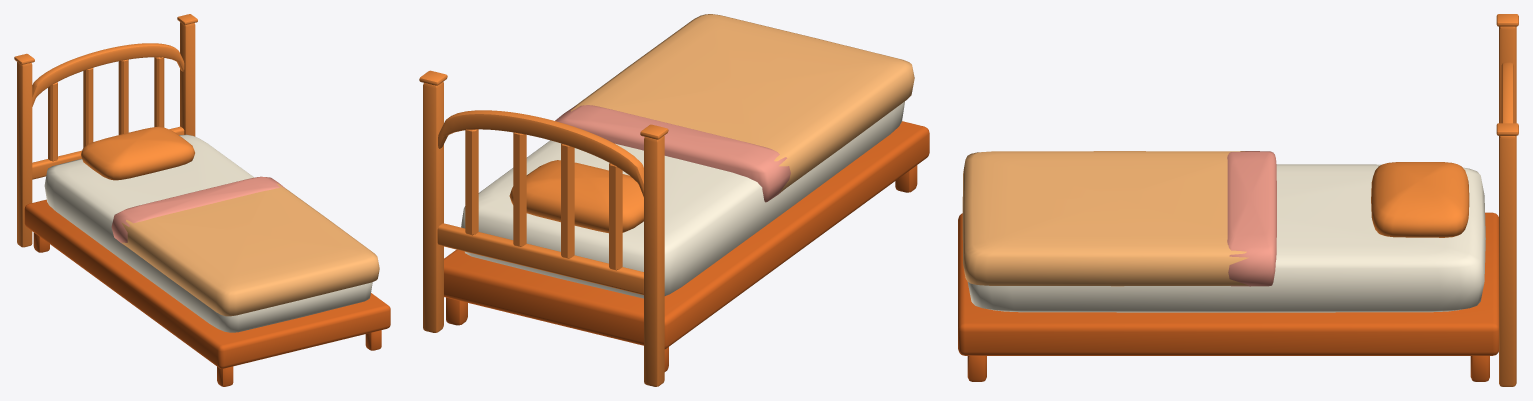
Rendered from cama_solteiro_grade_arco_laranja.glb.
The picture shows the model from 3 angles, left to right: view 1: azimuth 30°, elevation 25°; view 2: azimuth 150°, elevation 25°; view 3: azimuth 270°, elevation 25°; orthographic projection. The views are drawn at different scales.
Visible parts, largest first — view 1: cama_solteiro_grade_arco_laranja; view 2: cama_solteiro_grade_arco_laranja; view 3: cama_solteiro_grade_arco_laranja.
Part boxes in pixels (<box>): cama_solteiro_grade_arco_laranja: <box>14,14,390,386</box>; cama_solteiro_grade_arco_laranja: <box>419,14,929,386</box>; cama_solteiro_grade_arco_laranja: <box>958,14,1518,386</box>.
Size of the model in its own units: 1.03 by 1.04 by 2.05.
1 material, 1 textured.
